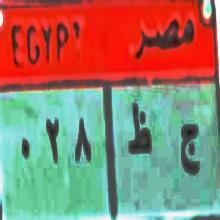0: (19, 131, 33, 168)
2: (44, 114, 63, 164)
8: (70, 110, 94, 172)
Thaa: (124, 98, 152, 157)
jeem: (176, 118, 202, 184)
